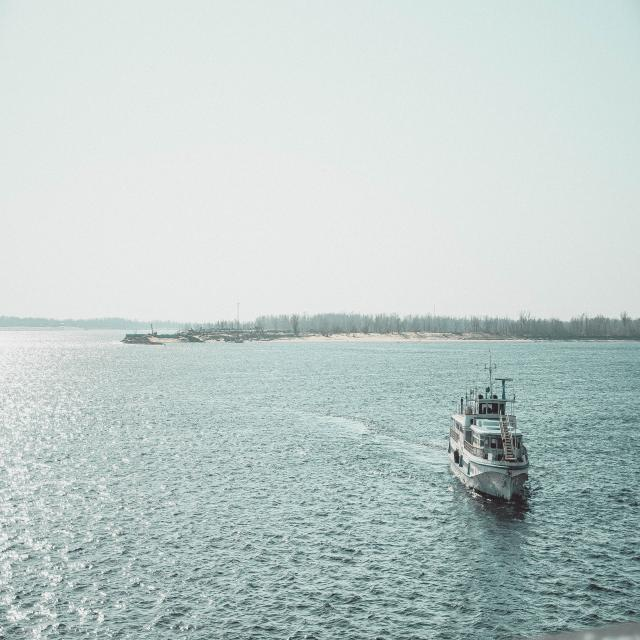houseboat: (446, 377, 531, 507)
